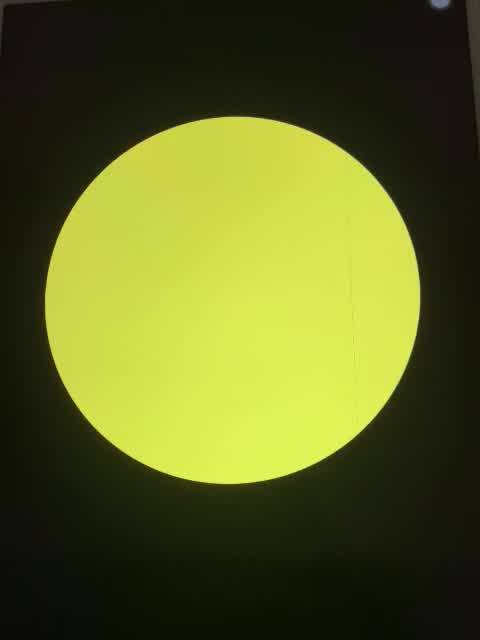left: (37, 107, 424, 492)
